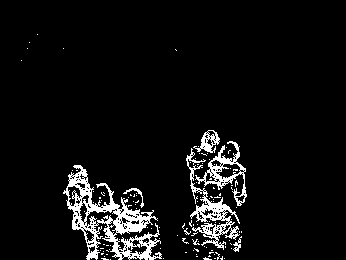person: (191, 180, 241, 260), (111, 186, 163, 260), (206, 137, 248, 223), (185, 127, 221, 216), (82, 181, 123, 259), (65, 164, 95, 250)
